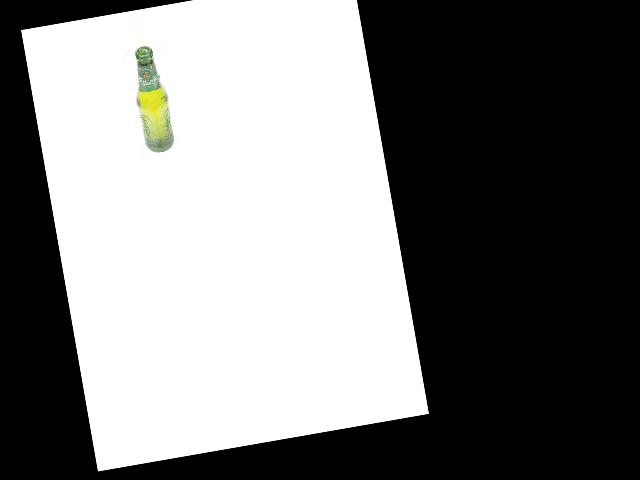beer: (127, 43, 177, 155)
